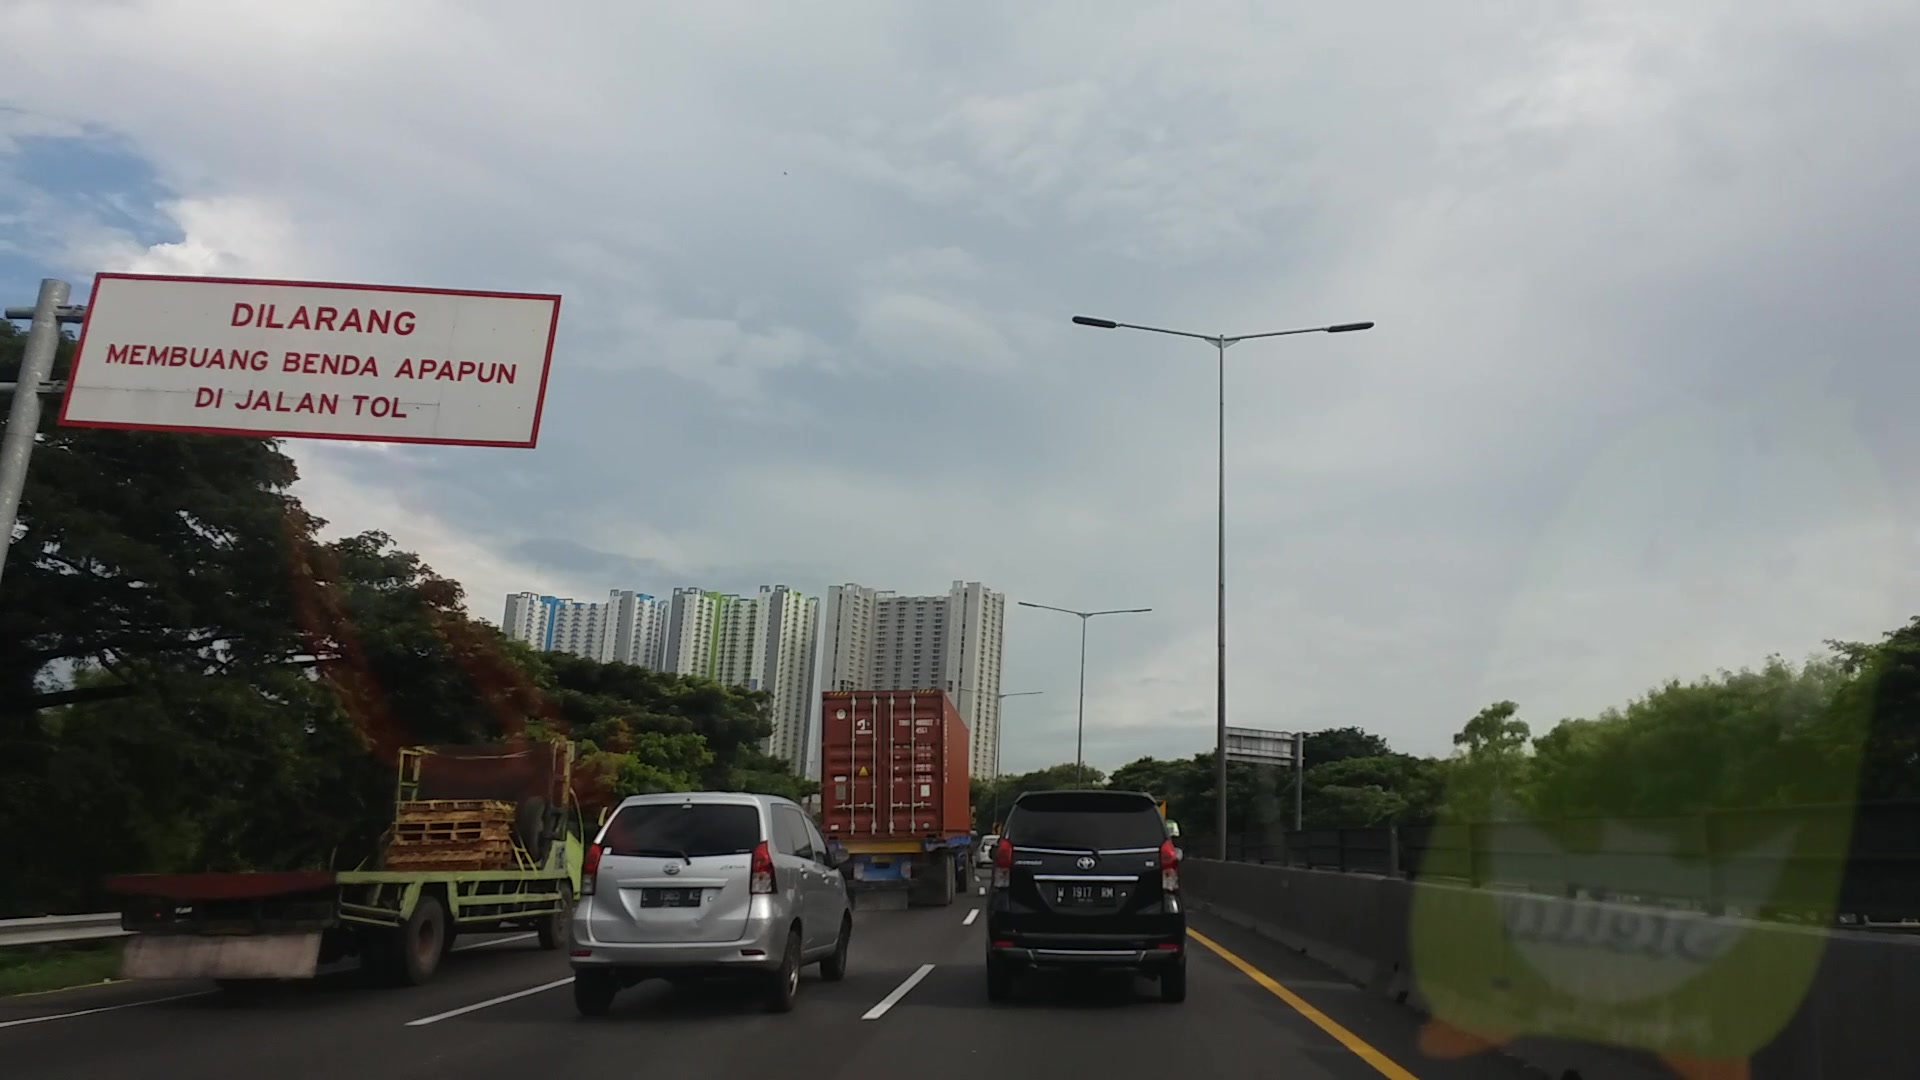plate_positive: (1056, 882, 1116, 905), (641, 887, 702, 906)
